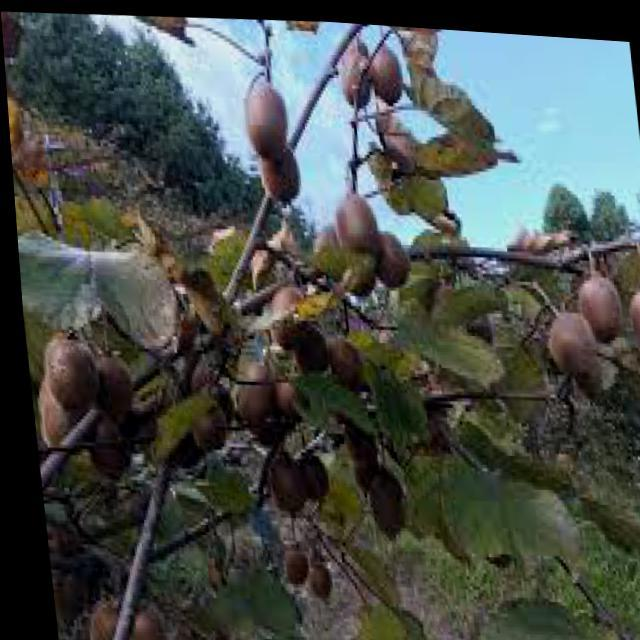kiwi: (32, 327, 103, 428), (238, 77, 295, 161), (326, 184, 381, 268), (539, 300, 595, 377), (570, 265, 626, 339), (259, 276, 310, 352), (87, 349, 136, 428), (358, 459, 404, 538), (254, 137, 305, 207), (178, 383, 226, 456), (80, 415, 131, 481), (225, 362, 271, 431), (320, 324, 366, 393), (258, 444, 301, 517), (367, 30, 408, 106), (367, 222, 413, 288), (335, 37, 376, 106), (71, 591, 122, 640), (114, 599, 165, 640), (622, 269, 640, 364), (297, 550, 329, 602), (271, 534, 303, 586)
